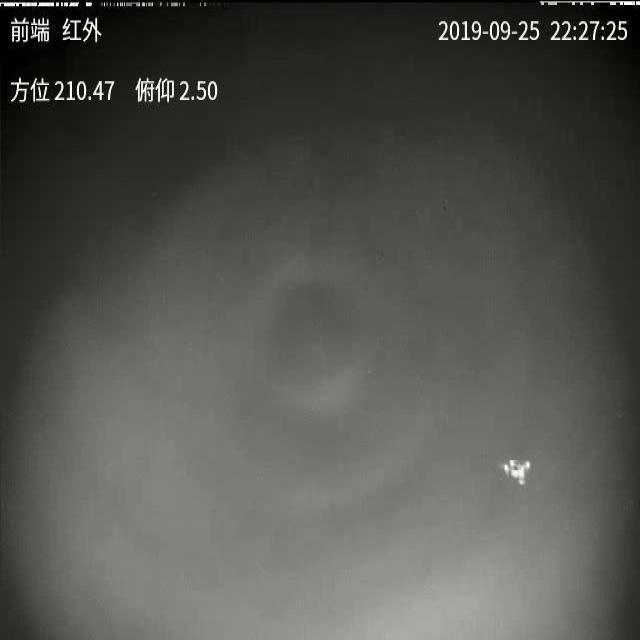drone: (504, 456, 532, 488)
